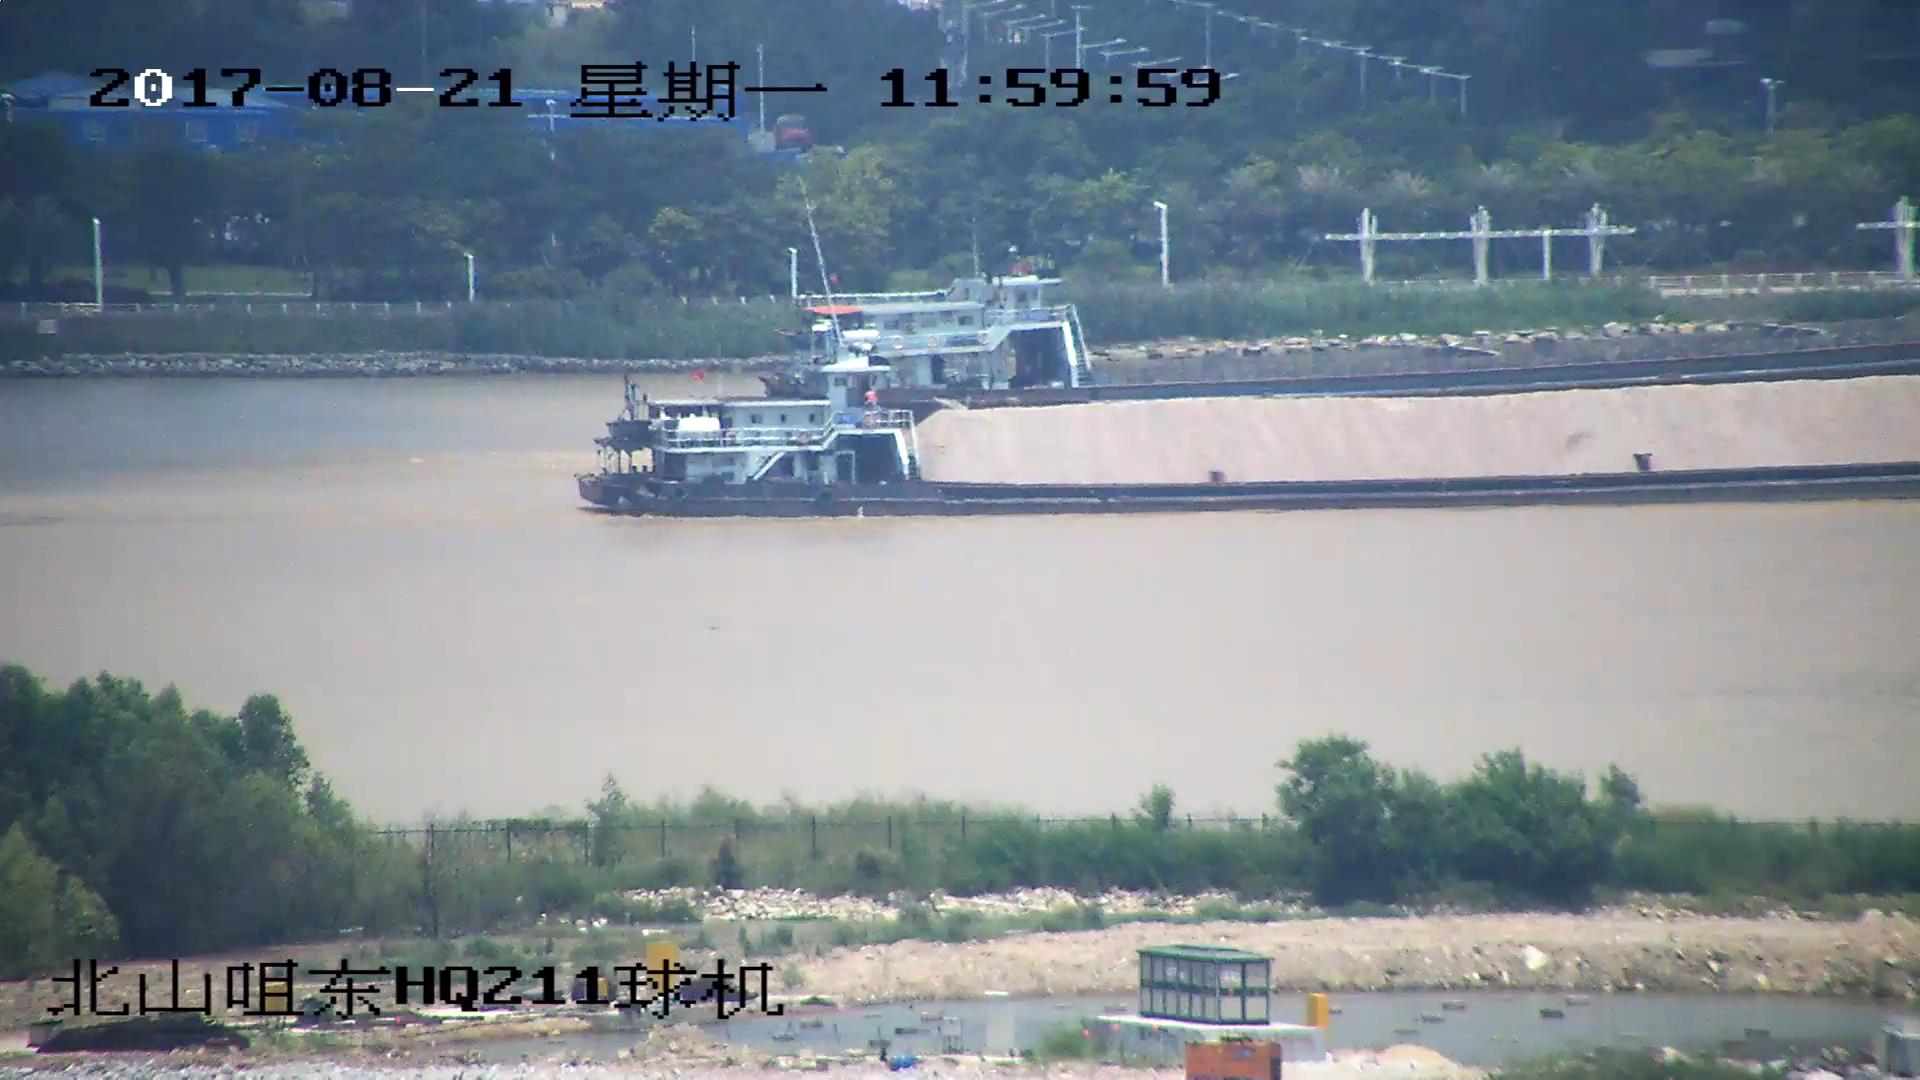bulk cargo carrier: (776, 276, 1920, 408)
ore carrier: (573, 389, 1920, 517)
